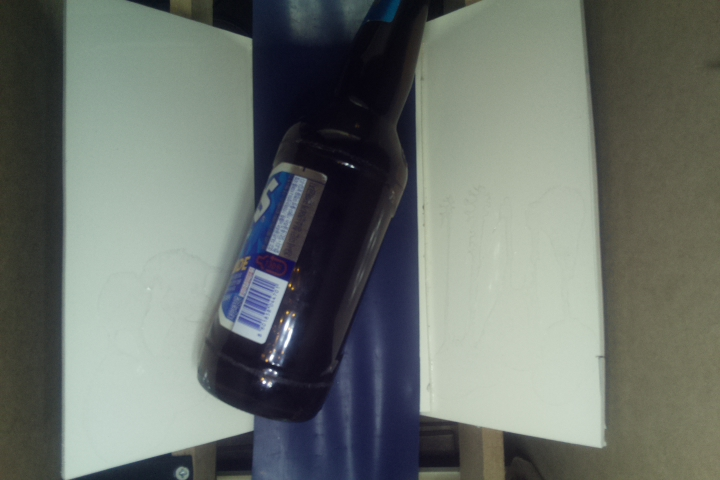makju: (195, 1, 436, 424)
